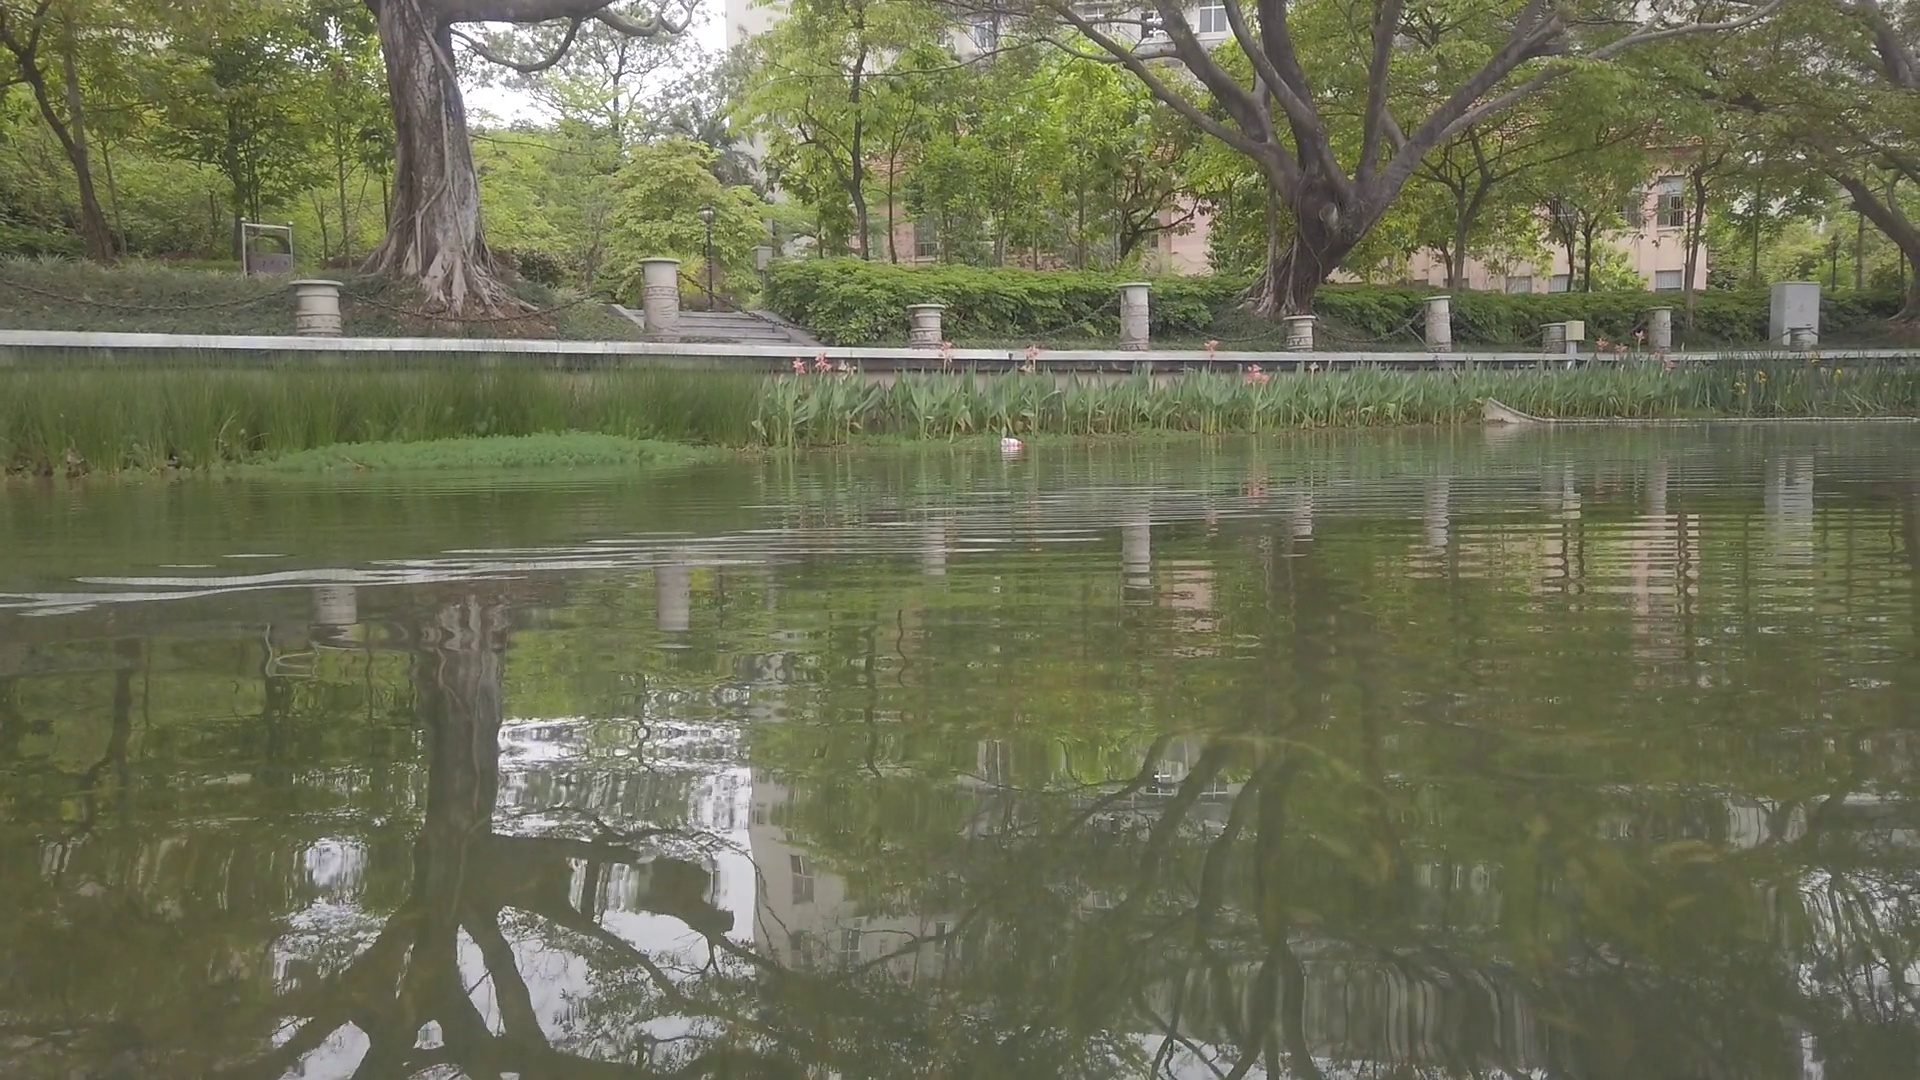bottle: (1000, 438, 1023, 447)
